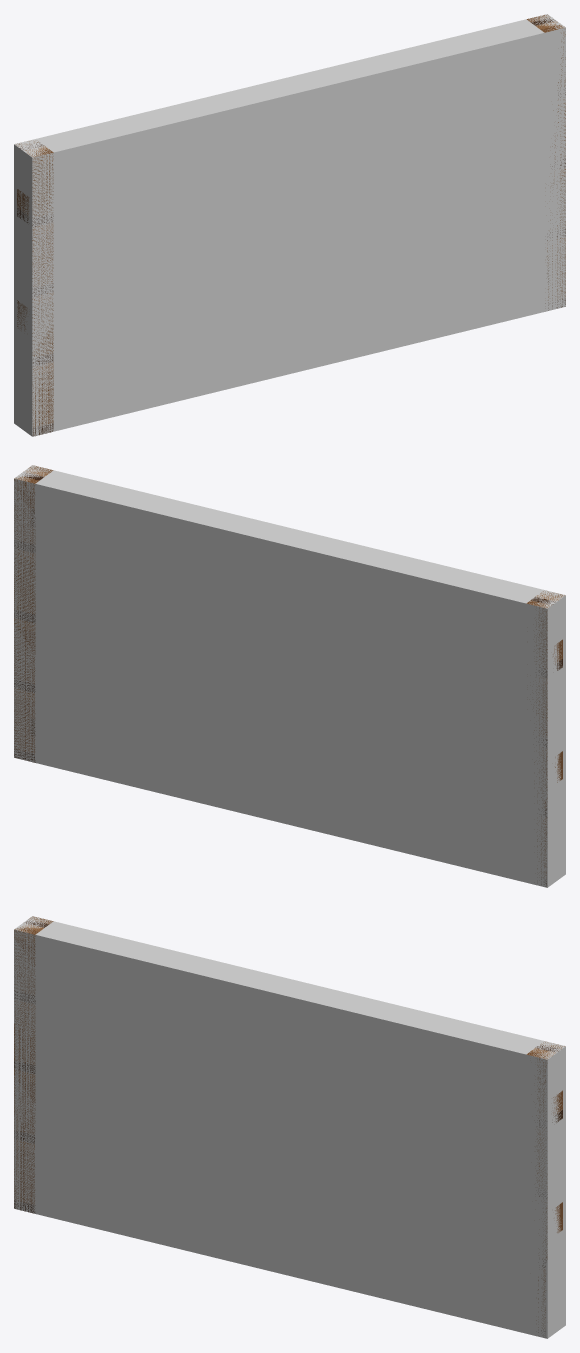
File: fence_2m.glb
3 views of the same model, one above another, from view 1: azimuth 30°, elevation 25°; view 2: azimuth 150°, elevation 25°; view 3: azimuth 330°, elevation 25° (orthographic).
Visible parts, largest first — view 1: col_fence, post_-1, post_+1; view 2: col_fence, post_+1, post_-1; view 3: col_fence, post_-1, post_+1.
Part boxes in pixels (left/top/right/bottom): col_fence: left=14, top=14, right=565, bottom=436; post_-1: left=16, top=141, right=53, bottom=436; post_+1: left=527, top=14, right=565, bottom=310; col_fence: left=14, top=465, right=565, bottom=887; post_+1: left=14, top=465, right=53, bottom=762; post_-1: left=526, top=591, right=564, bottom=886; col_fence: left=14, top=916, right=565, bottom=1338; post_-1: left=14, top=916, right=53, bottom=1213; post_+1: left=526, top=1042, right=564, bottom=1332.
Size of the model in its own units: 2 by 1 by 0.12.
Materials: 1 (1 with a texture image).
